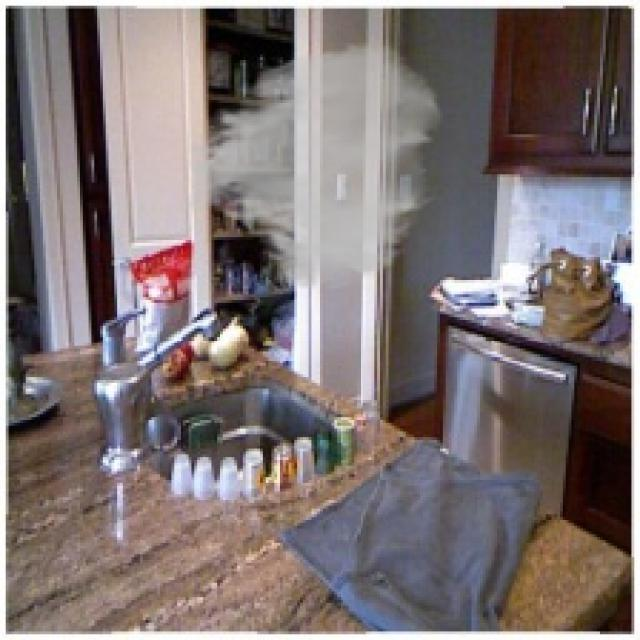Smoke: (174, 39, 446, 294)
